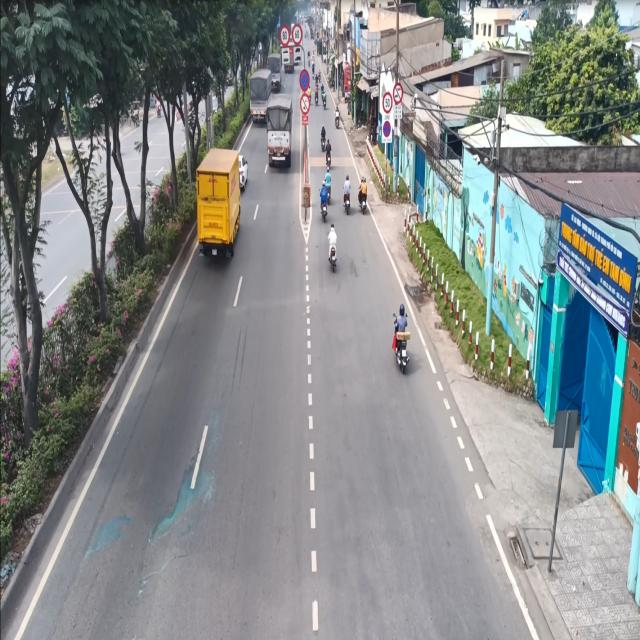motor: (389, 300, 414, 375), (324, 220, 338, 273), (358, 171, 370, 217), (342, 163, 352, 216)
truck: (194, 147, 241, 266), (266, 94, 292, 171), (247, 63, 269, 122)
